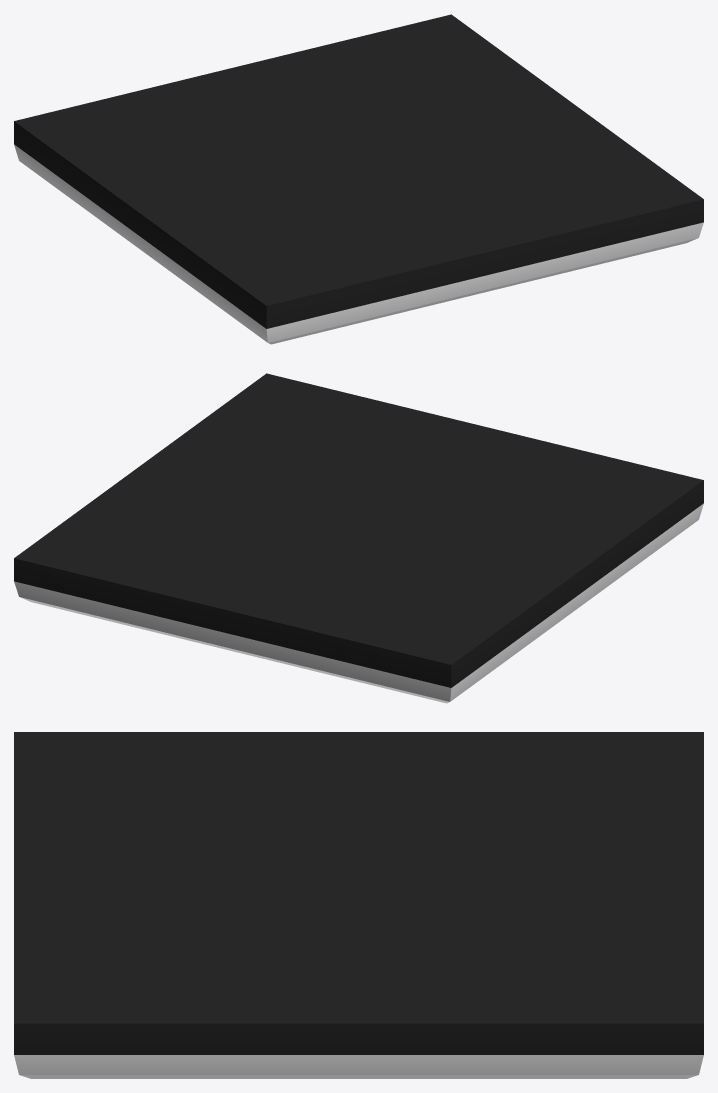
File: Kitchen-Ceiling-1.fbx
The picture shows the model from 3 angles, top to bottom: view 1: azimuth 30°, elevation 25°; view 2: azimuth 150°, elevation 25°; view 3: azimuth 270°, elevation 25°; orthographic projection. The views are drawn at different scales.
Parts seen in each view (by area): view 1: Kitchen-Ceiling-1; view 2: Kitchen-Ceiling-1; view 3: Kitchen-Ceiling-1.
Boxes of the visible parts, x1=… form: Kitchen-Ceiling-1: x1=14, y1=14, x2=703, y2=344; Kitchen-Ceiling-1: x1=14, y1=373, x2=703, y2=703; Kitchen-Ceiling-1: x1=14, y1=732, x2=703, y2=1078.
Size of the model in its own units: 2 by 0.2 by 2.
